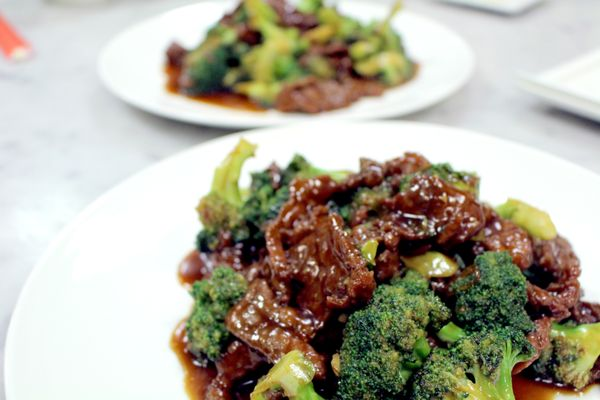curry: (336, 250, 540, 396), (194, 135, 334, 252), (194, 135, 285, 252), (183, 264, 249, 365), (532, 319, 600, 390)
